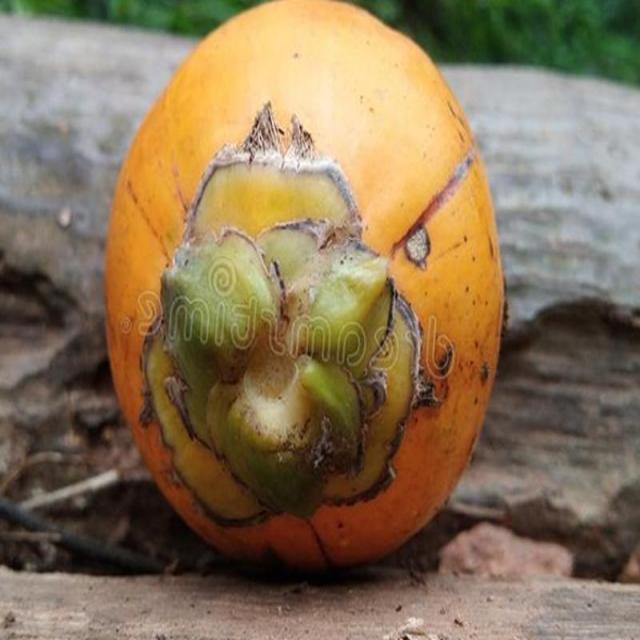good: (108, 0, 504, 578)
